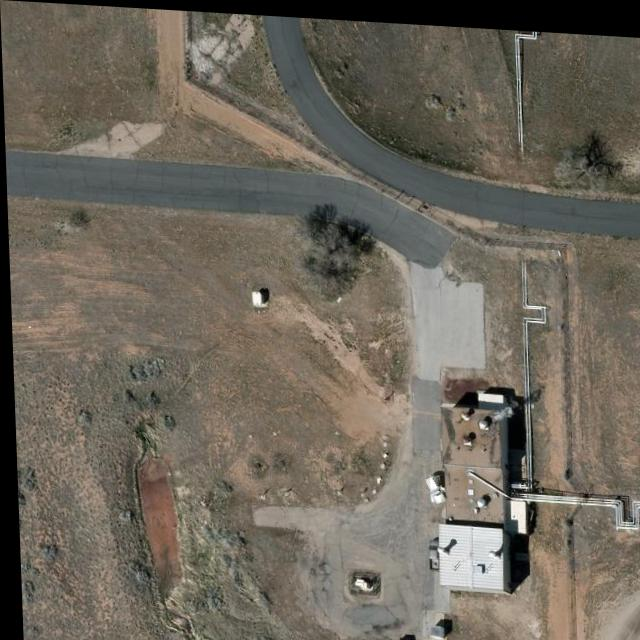vehicle: (423, 469, 442, 499)
